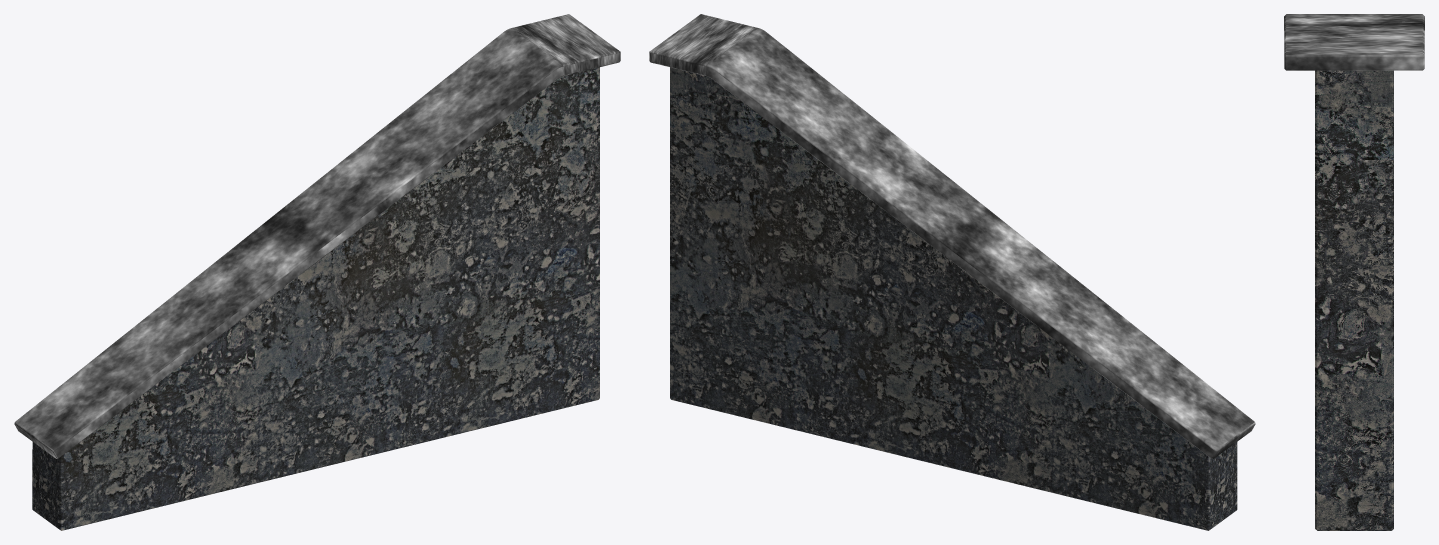
The model's file is SM_ladder_side_02.fbx.
3 renders of one model, left to right at view 1: azimuth 30°, elevation 25°; view 2: azimuth 150°, elevation 25°; view 3: azimuth 270°, elevation 25°, orthographic. The views are drawn at different scales.
Visible parts, largest first — view 1: SM_ladder_side_02_LOD0; view 2: SM_ladder_side_02_LOD0; view 3: SM_ladder_side_02_LOD0.
Boxes of the visible parts, x1,y1,x2,y2 form: SM_ladder_side_02_LOD0: (14, 14, 620, 530); SM_ladder_side_02_LOD0: (649, 14, 1255, 530); SM_ladder_side_02_LOD0: (1284, 14, 1424, 530).
Size of the model in its own units: 422 by 67.39 by 255.
